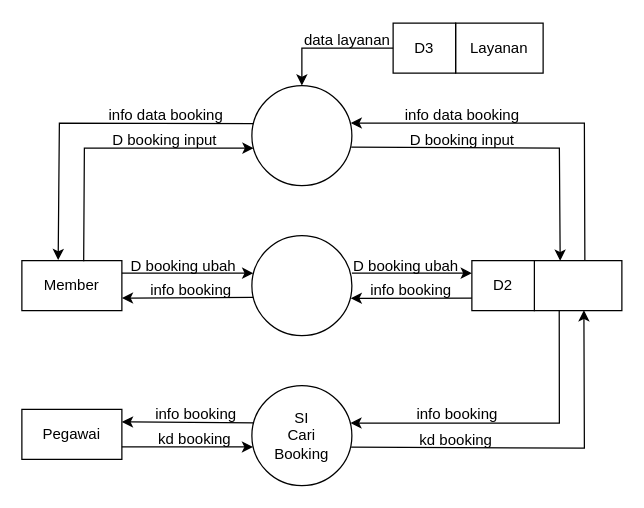
The diagram is 644 pixels wide and 508 high, and some of its shapes have lost their labels. Each missing label, with the centre of its shape:
Booking: the point at 577,285
SI Tambah Booking: the point at 301,135
SI Ubah booking: the point at 301,285
